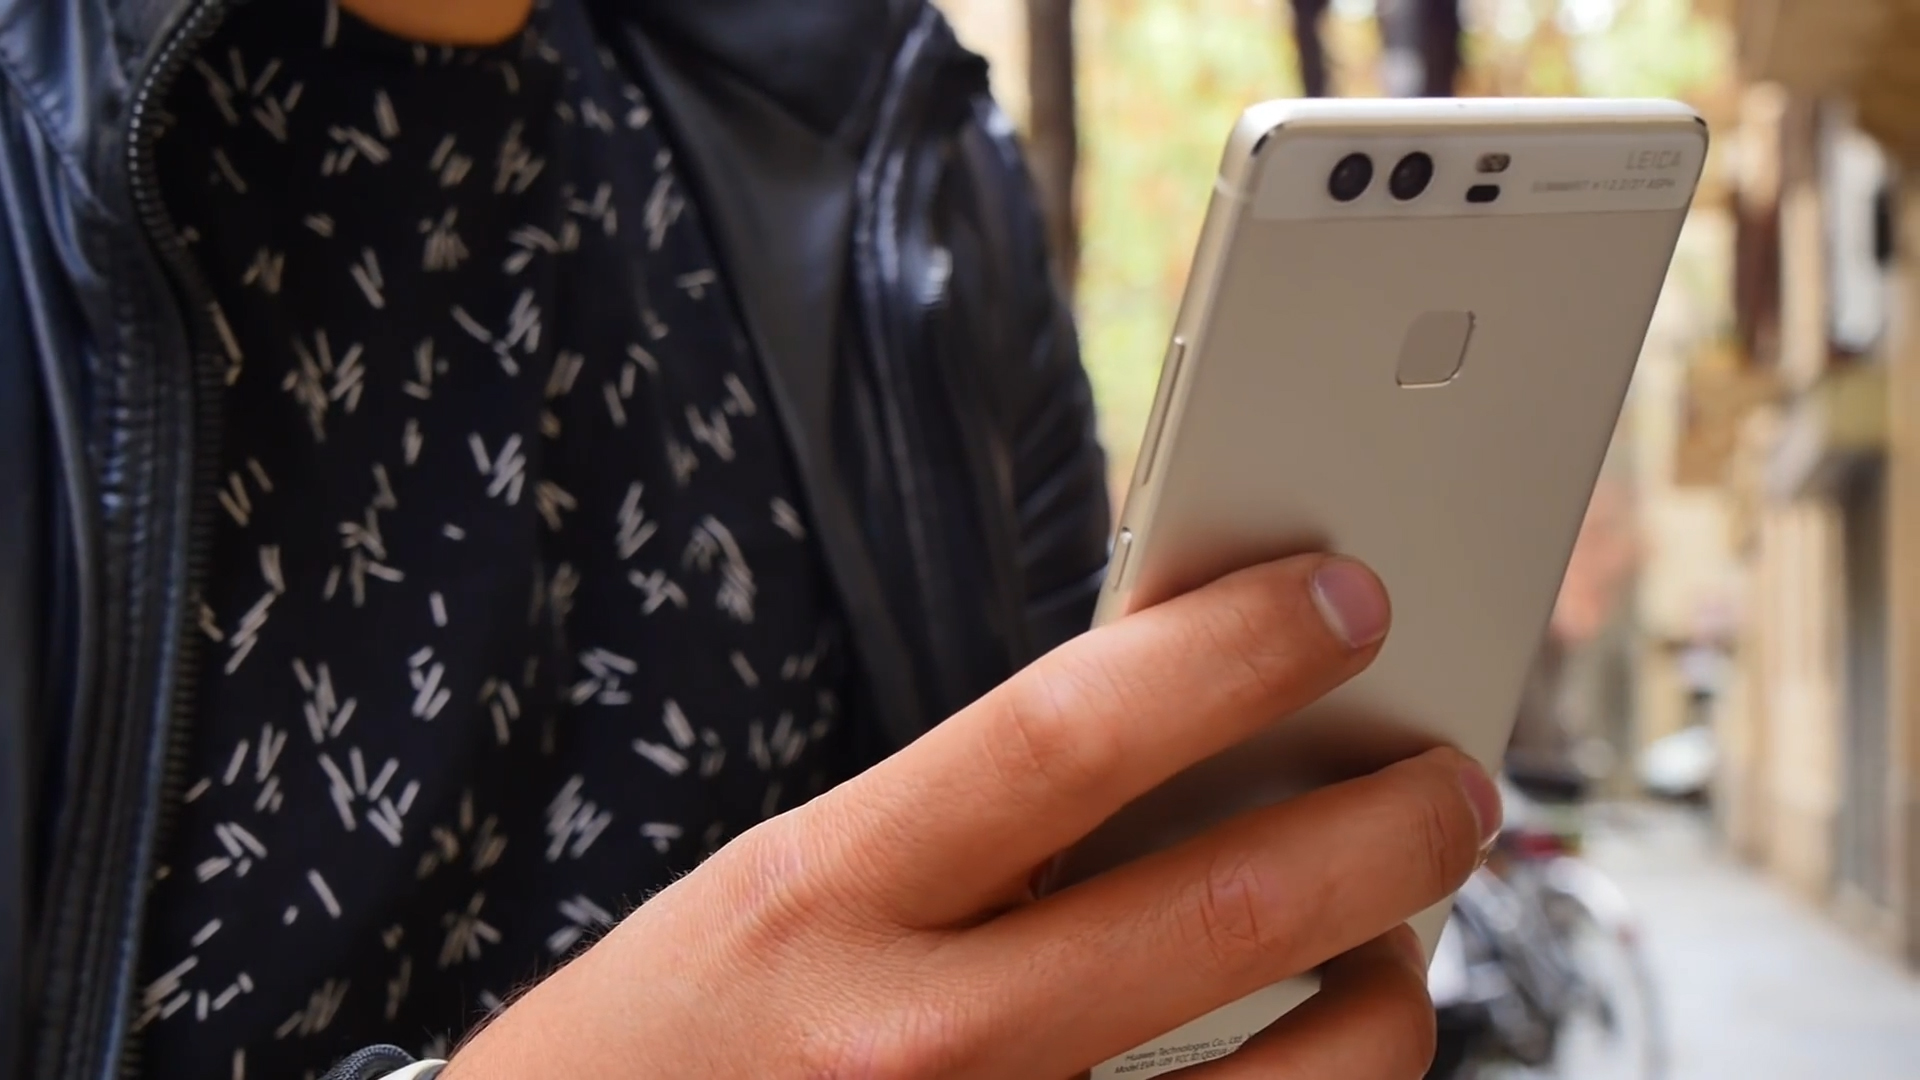smartphone: (1018, 91, 1713, 1080)
